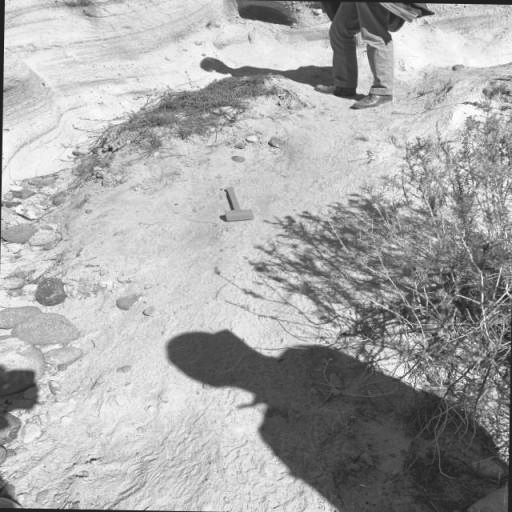mallet: (225, 186, 254, 220)
